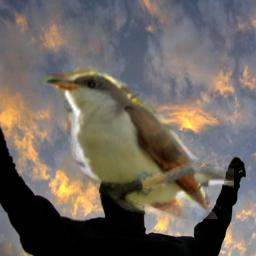Cuckoo: (39, 58, 234, 219)
